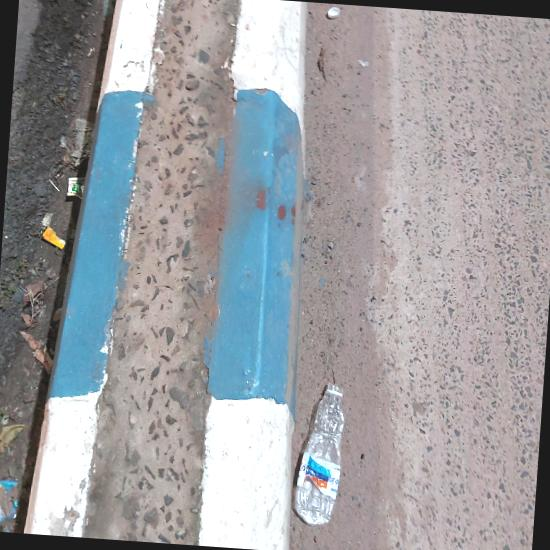Disposable food container: (143, 229, 240, 345)
Disposable plastic cup: (266, 96, 430, 311)
Drink can: (77, 477, 214, 546)
Foam cup: (0, 203, 119, 367), (0, 114, 82, 285)
Glass bottle: (70, 48, 309, 244)
Paper cup: (235, 308, 422, 512)
Paper straw: (169, 172, 292, 237)
Plastic lid: (207, 101, 275, 278), (143, 229, 240, 341)
Unlabeled litter: (66, 220, 128, 312)
